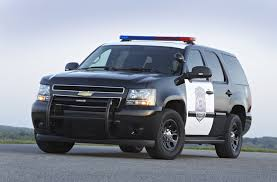special: (33, 35, 253, 163)
